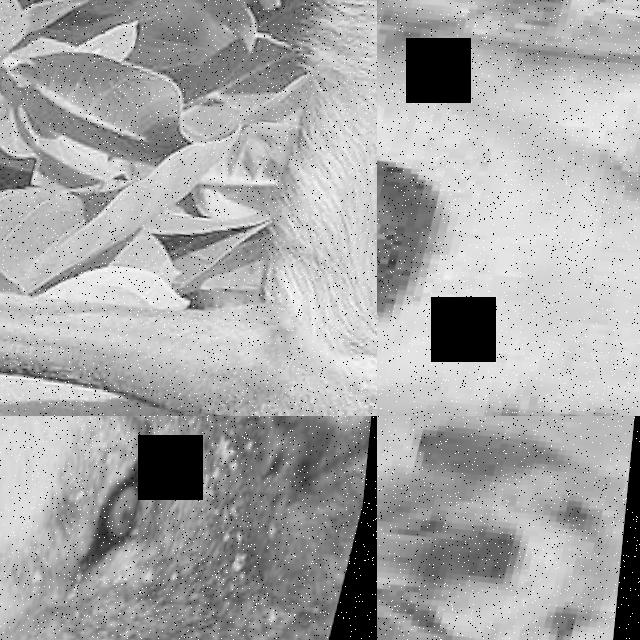dog: (377, 0, 640, 416), (377, 416, 640, 640)
wolf: (0, 0, 377, 416), (0, 416, 377, 640)
